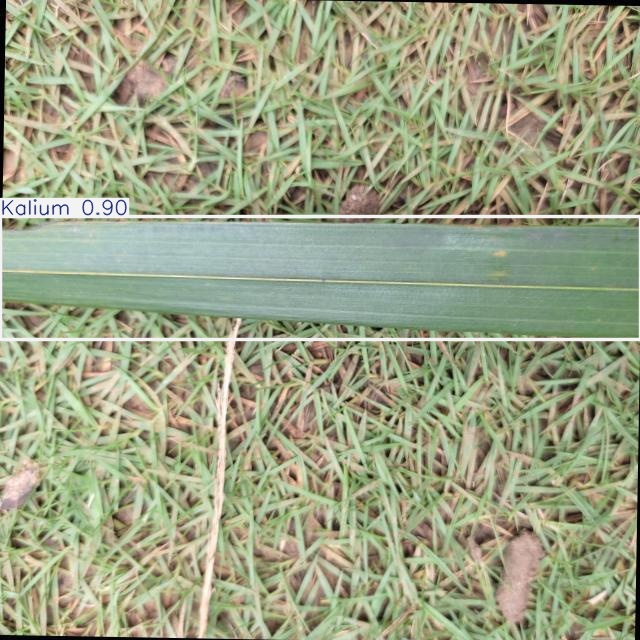Kalium: (0, 217, 640, 339)
